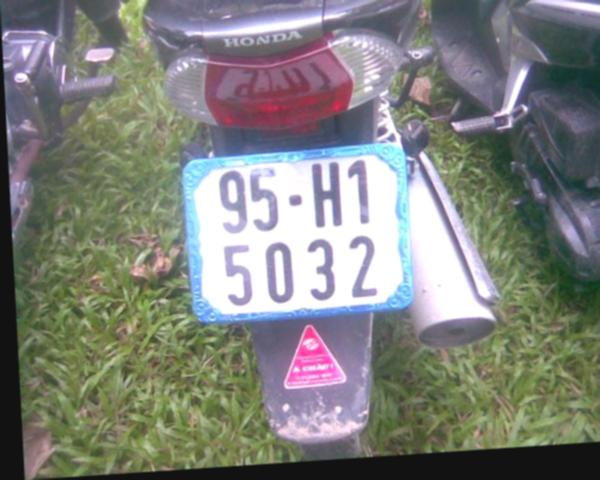License_Plate: (186, 148, 409, 322)
